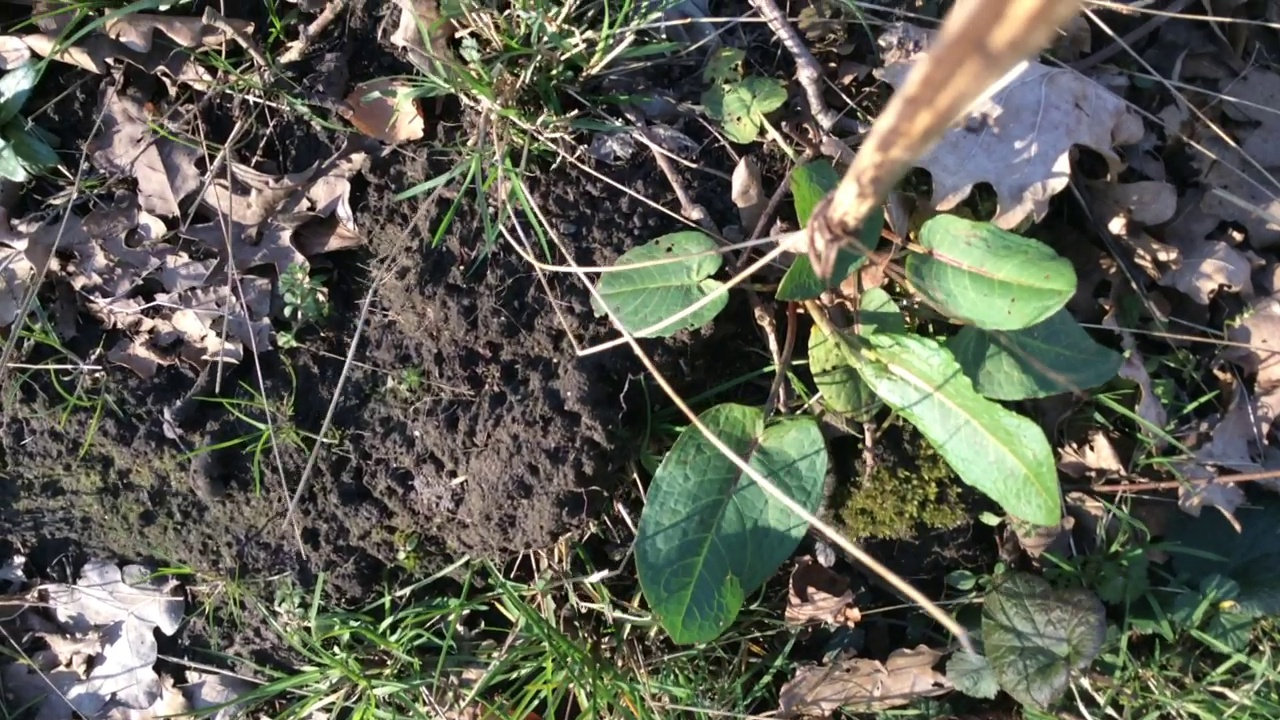rumex: (591, 45, 1130, 645)
